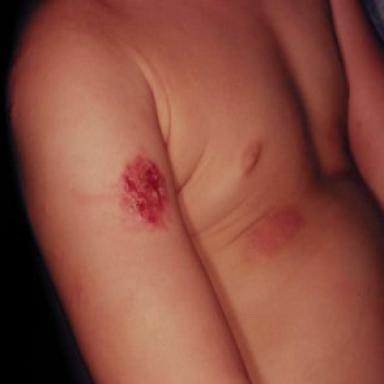eczema: (121, 154, 167, 229), (340, 277, 341, 278)
